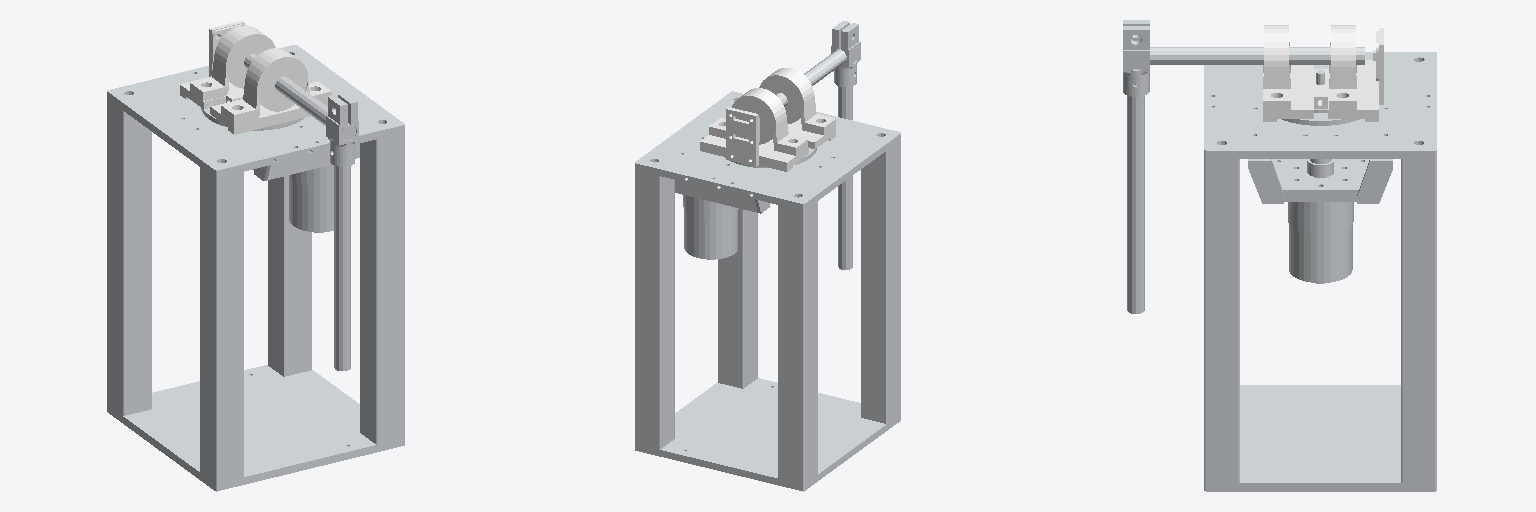
robot.urdf — rlr_urdf:
<?xml version="1.0" encoding="utf-8"?>
<!-- This URDF was automatically created by SolidWorks to URDF Exporter! Originally created by [author] ([email redacted]) 
     Commit Version: 1.6.0-4-g7f85cfe  Build Version: 1.6.7995.38578
     For more information, please see http://wiki.ros.org/sw_urdf_exporter -->
<robot
  name="rlr_urdf">
  <link name="world"/>
  <joint name="base_joint" type="fixed">
    <parent link="world"/>
    <child link="base_link"/>
    <origin rpy="0 0 0" xyz="0.0 0.0 0.0"/>
  </joint>
  <link
    name="base_link">
    <inertial>
      <origin
        xyz="0.0034218 1.349E-17 0.11552"
        rpy="0 0 0" />
      <mass
        value="1.1848" />
      <inertia
        ixx="0.003116"
        ixy="-5.7826E-21"
        ixz="4.7002E-09"
        iyy="0.003136"
        iyz="-1.6352E-19"
        izz="0.00060234" />
    </inertial>
    <visual>
      <origin
        xyz="0 0 0"
        rpy="0 0 0" />
      <geometry>
        <mesh
          filename="package://meshes/base_link.STL" />
      </geometry>
      <material
        name="">
        <color
          rgba="0.89804 0.91765 0.92941 1" />
      </material>
    </visual>
    <collision>
      <origin
        xyz="0 0 0"
        rpy="0 0 0" />
      <geometry>
        <mesh
          filename="package://meshes/base_link.STL" />
      </geometry>
    </collision>
  </link>
  <link
    name="link1">
    <inertial>
      <origin
        xyz="-0.0047028 0.020543 -1.5632E-11"
        rpy="0 0 0" />
      <mass
        value="0.27755" />
      <inertia
        ixx="8.2467E-05"
        ixy="-2.3543E-06"
        ixz="-4.3357E-15"
        iyy="7.4118E-05"
        iyz="4.7567E-15"
        izz="4.5494E-05" />
    </inertial>
    <visual>
      <origin
        xyz="0 0 0"
        rpy="0 0 0" />
      <geometry>
        <mesh
          filename="package://meshes/link1.STL" />
      </geometry>
      <material
        name="">
        <color
          rgba="1 1 1 1" />
      </material>
    </visual>
    <collision>
      <origin
        xyz="0 0 0"
        rpy="0 0 0" />
      <geometry>
        <mesh
          filename="package://meshes/link1.STL" />
      </geometry>
    </collision>
  </link>
  <joint
    name="joint1"
    type="continuous">
    <origin
      xyz="0 0 0.213"
      rpy="1.5708 0 1.5708" />
    <parent
      link="base_link" />
    <child
      link="link1" />
    <axis
      xyz="0 1 0" />
    <limit
      lower="-3.14"
      upper="3.14"
      effort="0.07"
      velocity="46" />
  </joint>
  <link
    name="link2">
    <inertial>
      <origin
        xyz="3.3578E-06 -0.046206 -0.079149"
        rpy="0 0 0" />
      <mass
        value="0.072015" />
      <inertia
        ixx="6.521E-05"
        ixy="-3.0229E-09"
        ixz="-1.9355E-12"
        iyy="4.5617E-05"
        iyz="1.418E-14"
        izz="2.1907E-05" />
    </inertial>
    <visual>
      <origin
        xyz="0 0 0"
        rpy="0 0 0" />
      <geometry>
        <mesh
          filename="package://meshes/link2.STL" />
      </geometry>
      <material
        name="">
        <color
          rgba="0.89804 0.91765 0.92941 1" />
      </material>
    </visual>
    <collision>
      <origin
        xyz="0 0 0"
        rpy="0 0 0" />
      <geometry>
        <mesh
          filename="package://meshes/link2.STL" />
      </geometry>
    </collision>
  </link>
  <joint
    name="joint2"
    type="continuous">
    <origin
      xyz="0 0.025 0"
      rpy="0 1.5708 0" />
    <parent
      link="link1" />
    <child
      link="link2" />
    <axis
      xyz="0 0 1" />
  </joint>
</robot>

--- Render facts (derived) ---
The picture shows the robot from 3 angles, left to right: view 1: azimuth 30°, elevation 25°; view 2: azimuth 150°, elevation 25°; view 3: azimuth 270°, elevation 25°; orthographic projection.
Model rlr_urdf with 4 links and 3 joints (2 continuous, 1 fixed), rooted at world, posed every joint at zero.
Links seen in each view (by area): view 1: base_link, link1, link2; view 2: base_link, link1, link2; view 3: base_link, link2, link1.
Boxes of the visible links, bbox=[...] form: base_link: bbox=[107, 45, 404, 491]; link1: bbox=[180, 21, 331, 134]; link2: bbox=[244, 54, 358, 370]; base_link: bbox=[635, 91, 900, 491]; link1: bbox=[700, 68, 835, 171]; link2: bbox=[776, 21, 860, 269]; base_link: bbox=[1204, 52, 1436, 491]; link2: bbox=[1123, 20, 1364, 313]; link1: bbox=[1263, 25, 1383, 121].
Size in the robot's own frame: 0.1325 by 0.1755 by 0.257 metres.
3 mesh visuals loaded from 3 distinct referenced files (3 binary STL).